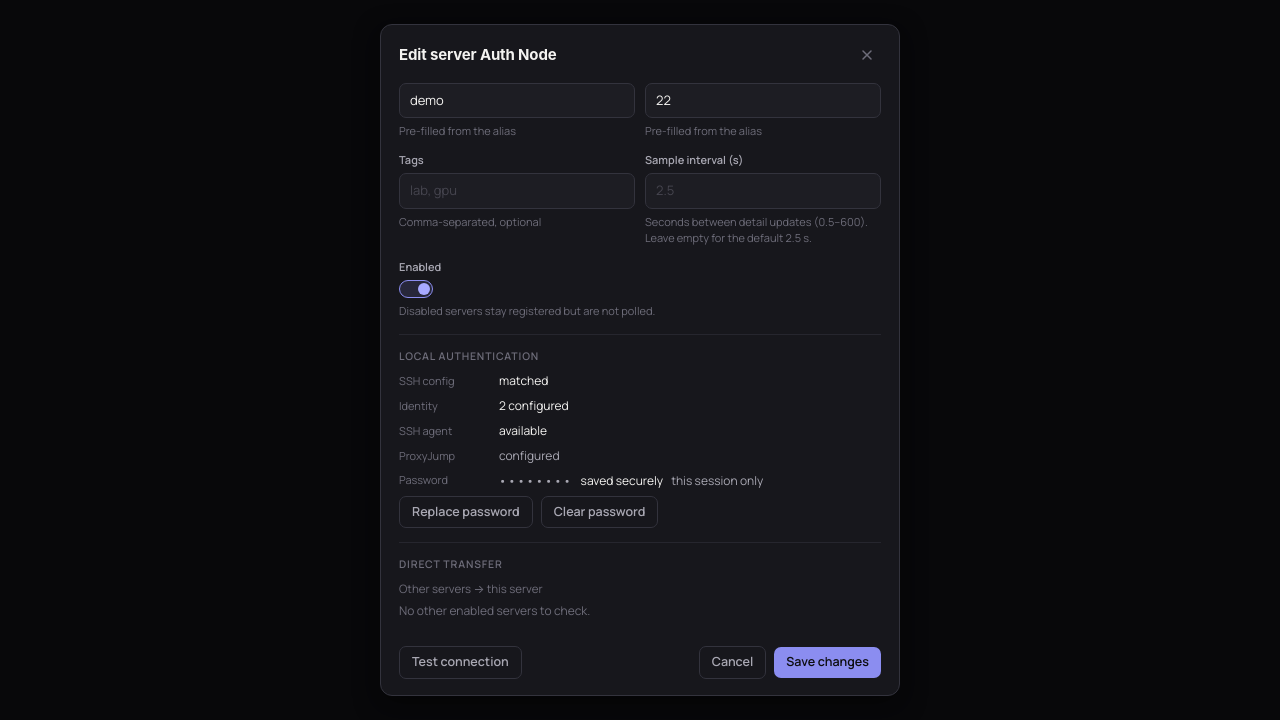
Test: ServerDialog password credential flow › shows session-only storage word and clears through an explicit confirm DELETE
This screenshot has width=1280, height=720.
(page scrolled)
Check: the text "this session only" is shown, box top-left (671, 472), bottom-right (763, 490)
Click the button "Clear password". click: [600, 512]
box: top-left (541, 496), bottom-right (658, 528)
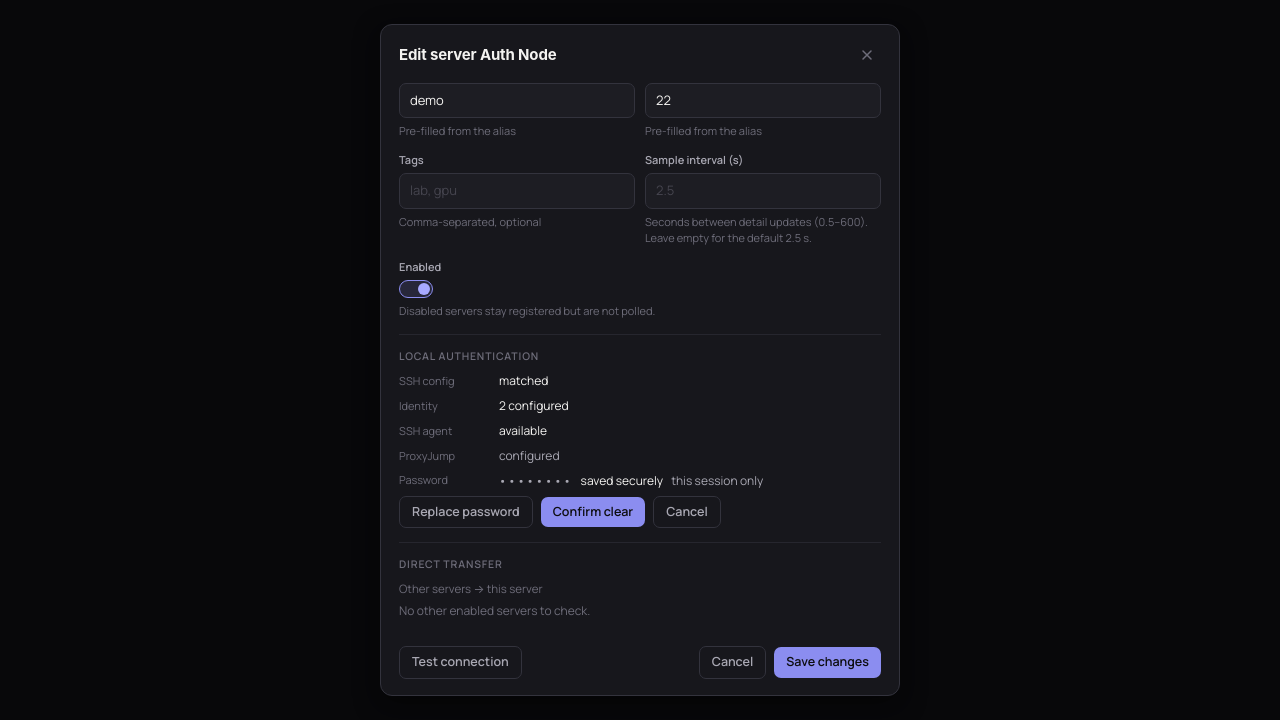
Click the button "Confirm clear". click: [593, 512]
box: top-left (541, 496), bottom-right (645, 527)
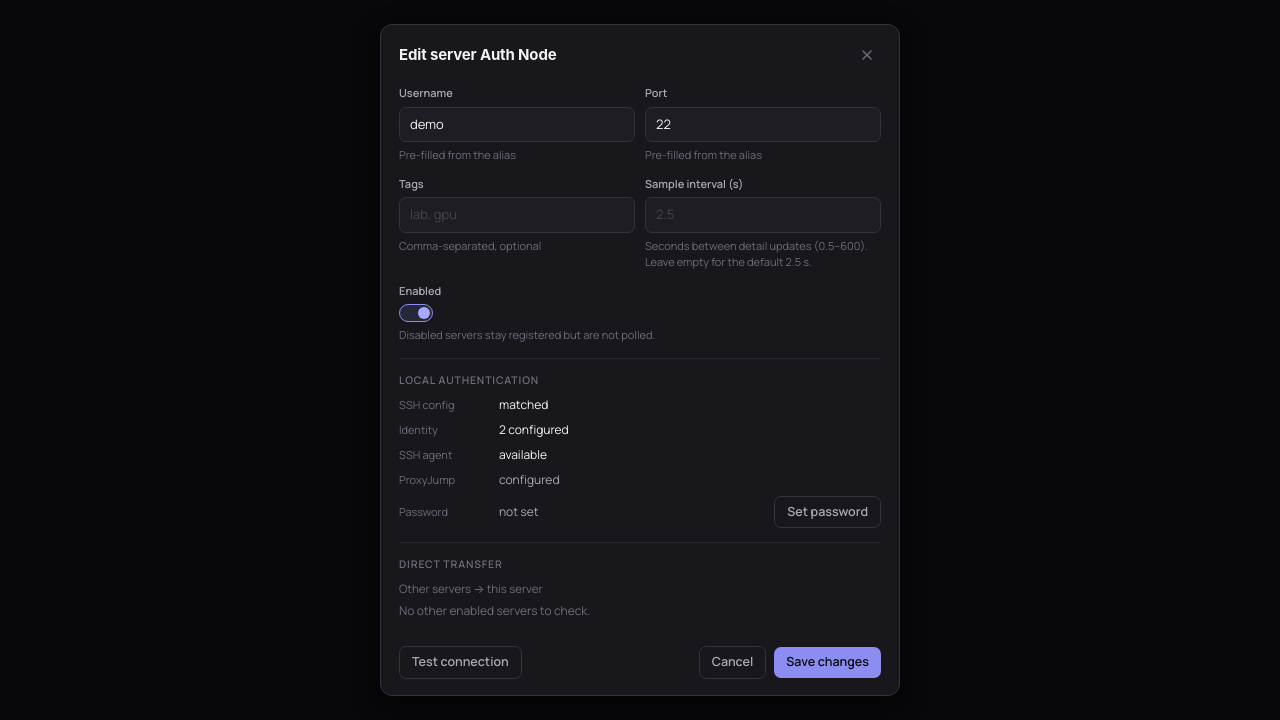
Check: the text "not set" is shown, box top-left (499, 503), bottom-right (538, 521)
